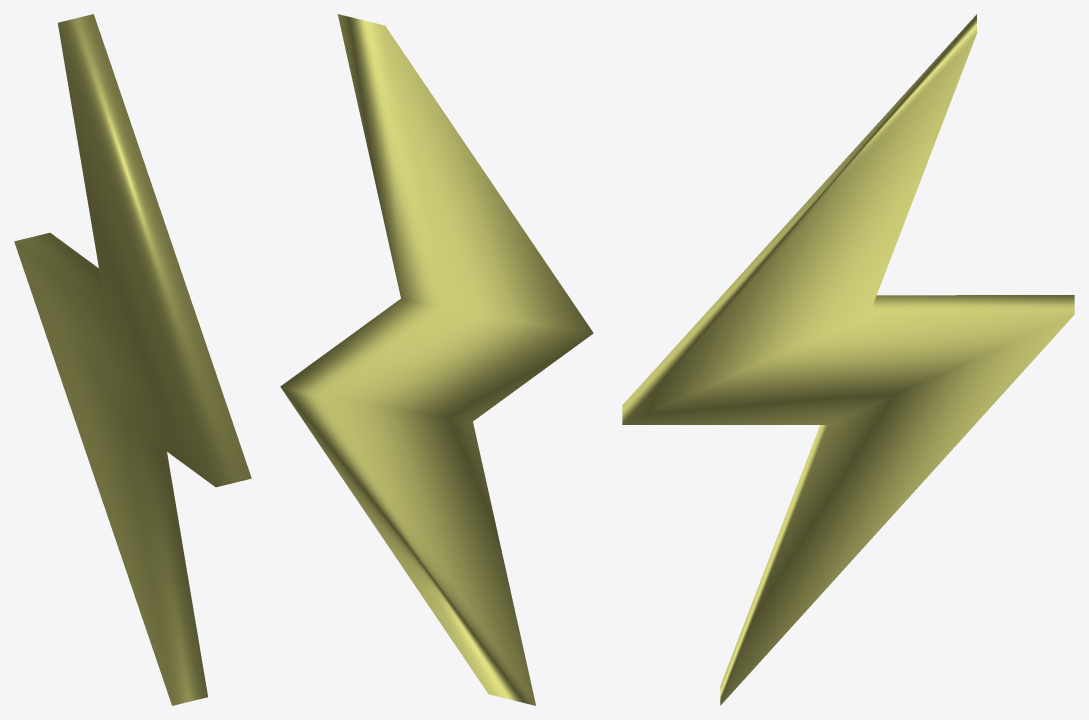
Rendered from Thunder.fbx.
3 renders of one model, left to right at view 1: azimuth 30°, elevation 25°; view 2: azimuth 150°, elevation 25°; view 3: azimuth 270°, elevation 25°, orthographic. The views are drawn at different scales.
Visible parts, largest first — view 1: polySurface6; view 2: polySurface6; view 3: polySurface6.
Boxes of the visible parts, x1,y1,x2,y2 form: polySurface6: (14,14,251,705); polySurface6: (280,14,593,705); polySurface6: (622,14,1074,705).
Bounding box in the file's own units: 4 × 63.54 × 38.74.
